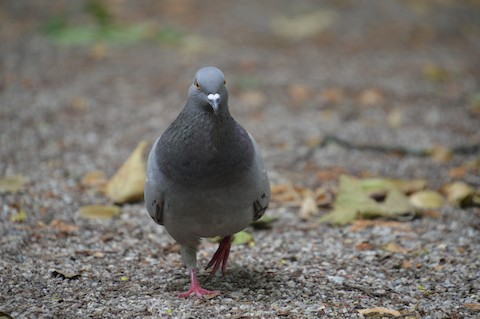pigeon: (136, 56, 276, 303)
